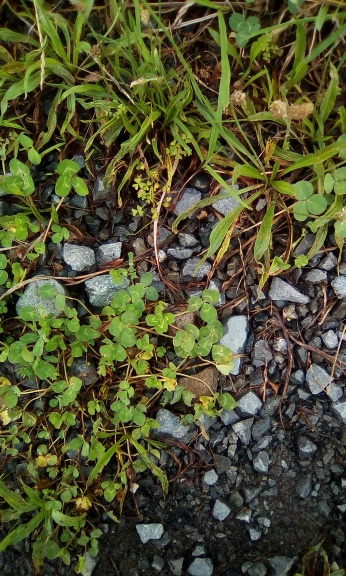4leaf: (145, 305, 176, 335)
